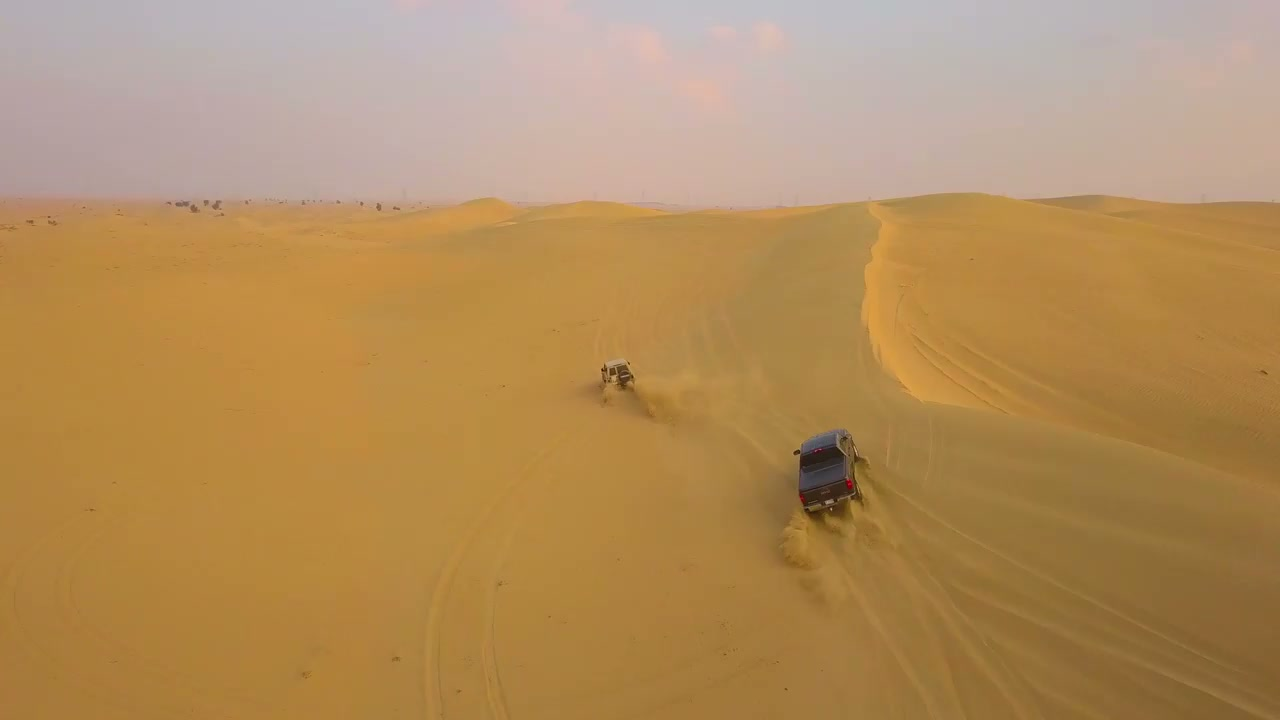vehicle_track: (885, 487, 1279, 719), (0, 490, 269, 716), (805, 468, 1042, 719), (888, 489, 1203, 656), (805, 513, 1038, 718), (423, 426, 578, 718), (441, 423, 588, 719), (959, 588, 1279, 719), (963, 590, 1279, 719), (821, 538, 1044, 719), (862, 503, 1042, 719), (54, 509, 228, 705), (880, 554, 1039, 717), (890, 553, 1042, 719), (0, 512, 126, 705), (822, 544, 948, 716), (697, 301, 817, 468), (702, 303, 817, 464), (686, 301, 794, 466), (838, 563, 947, 716), (604, 288, 740, 407), (597, 273, 704, 423), (700, 303, 796, 464), (614, 254, 720, 381), (575, 653, 773, 719), (851, 265, 908, 469), (601, 260, 680, 382), (684, 294, 757, 419), (479, 515, 523, 719), (714, 302, 779, 426), (706, 302, 775, 416), (851, 325, 900, 468), (481, 525, 517, 719), (628, 279, 710, 364), (853, 351, 899, 469), (628, 280, 704, 347), (592, 267, 638, 362), (591, 283, 634, 367), (596, 284, 642, 362), (727, 420, 777, 463), (592, 284, 619, 362), (715, 302, 750, 361), (891, 276, 918, 338), (921, 408, 939, 487), (592, 313, 606, 362), (883, 423, 895, 467)
